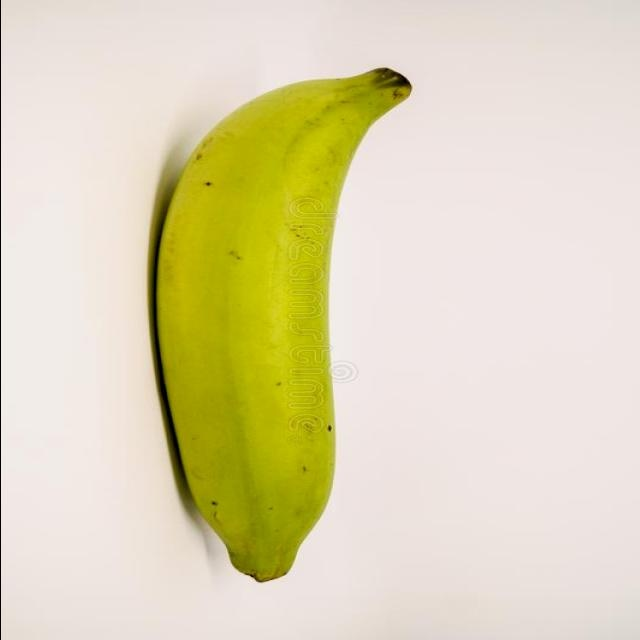agrume: (151, 65, 417, 587)
